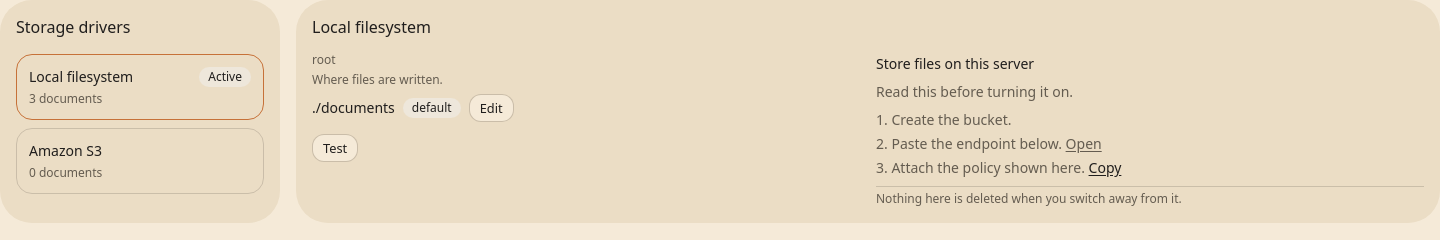
Test: StorageTab › shows the health check message from the Test button
Check: the icon "Active" is shown, box 199,67 -> 251,87
Click the button "Test" at (335, 148), box 312,134 -> 358,162
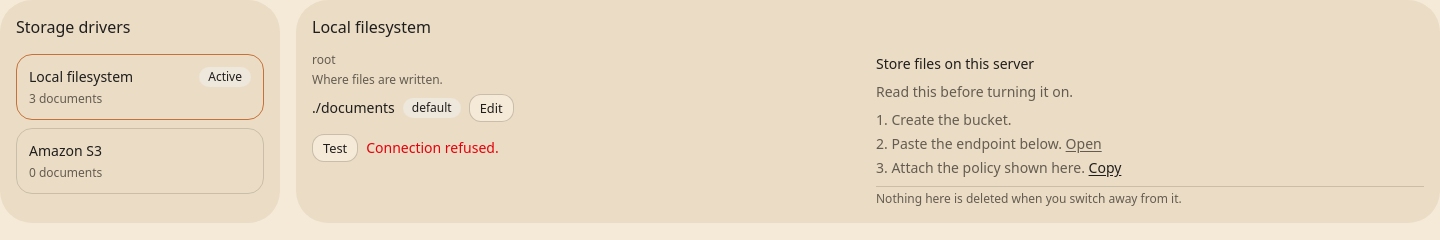
Check: the text "Connection refused." is shown, box 366,138 -> 499,158
